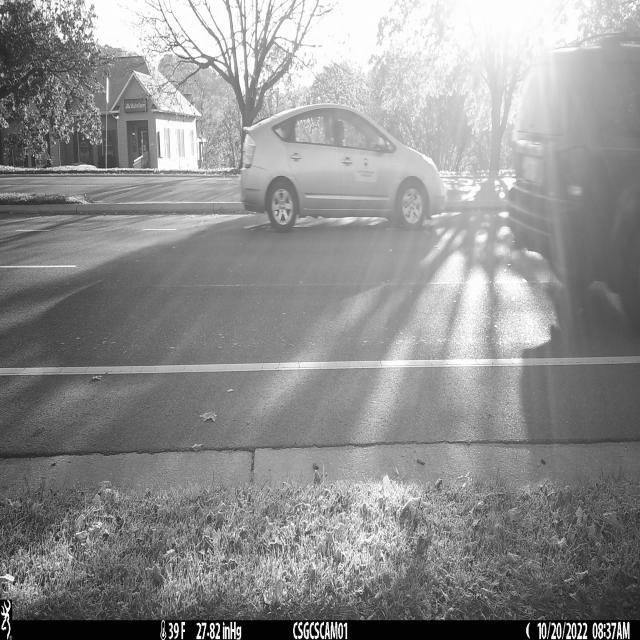Hatchback: (239, 104, 446, 231)
